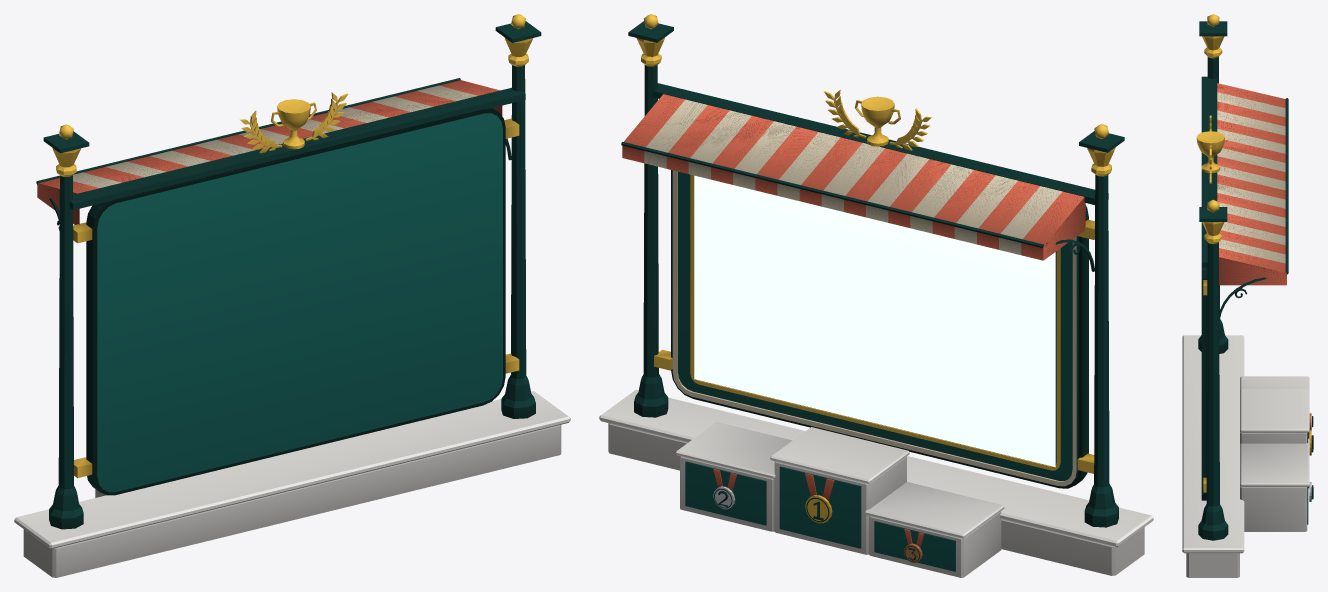
Rendered from pav_honor.glb.
3 renders of one model, left to right at view 1: azimuth 30°, elevation 25°; view 2: azimuth 150°, elevation 25°; view 3: azimuth 270°, elevation 25°, orthographic. The views are drawn at different scales.
Visible parts, largest first — view 1: static_honor; view 2: static_honor, live_board_honor; view 3: static_honor.
Part boxes in pixels (left/top/right/bottom): static_honor: left=14, top=14, right=570, bottom=577; static_honor: left=599, top=14, right=1153, bottom=577; live_board_honor: left=694, top=175, right=1055, bottom=467; static_honor: left=1182, top=14, right=1313, bottom=577.
Bounding box in the file's own units: 6.04 × 4.82 × 1.57.
